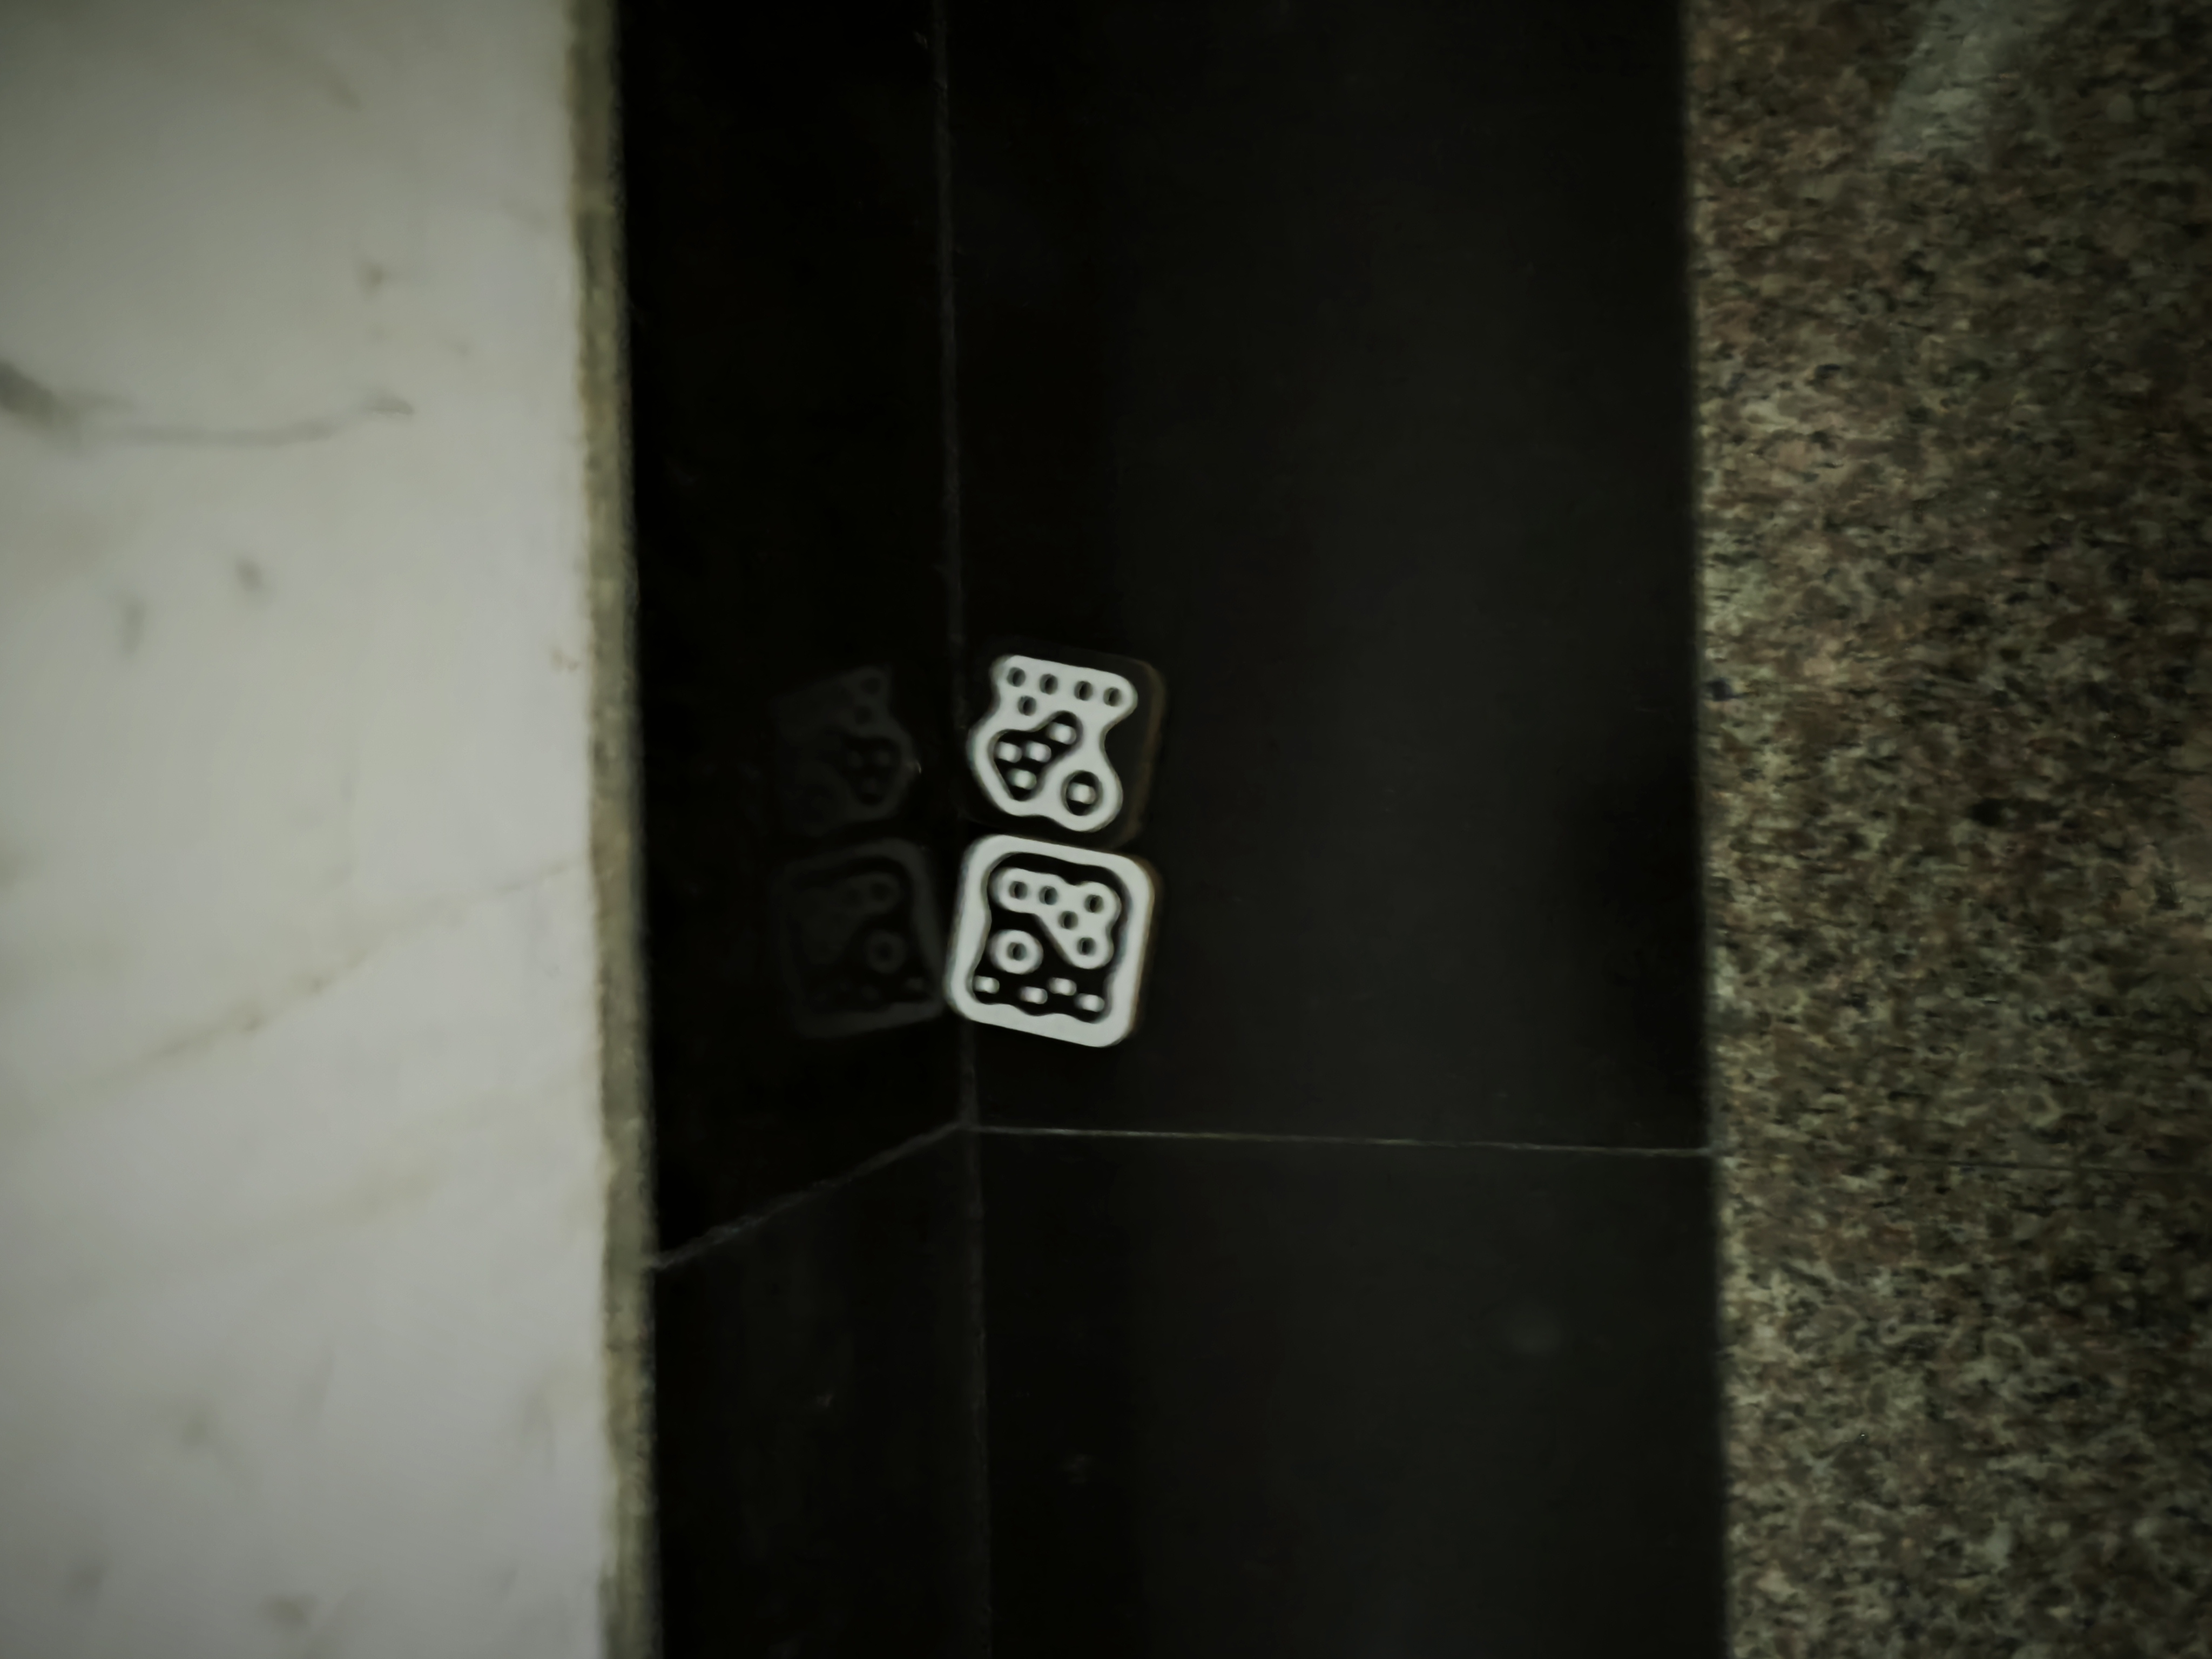mark1: (963, 845, 1132, 1037)
mark2: (979, 650, 1139, 842)
